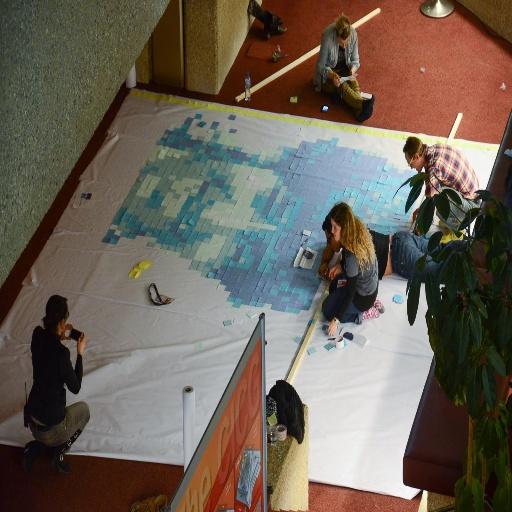hand: (59, 320, 72, 344), (328, 264, 341, 280), (327, 316, 337, 336), (75, 332, 83, 354), (318, 259, 328, 276), (413, 223, 423, 238), (331, 73, 340, 87), (411, 206, 418, 219), (349, 68, 355, 80)
